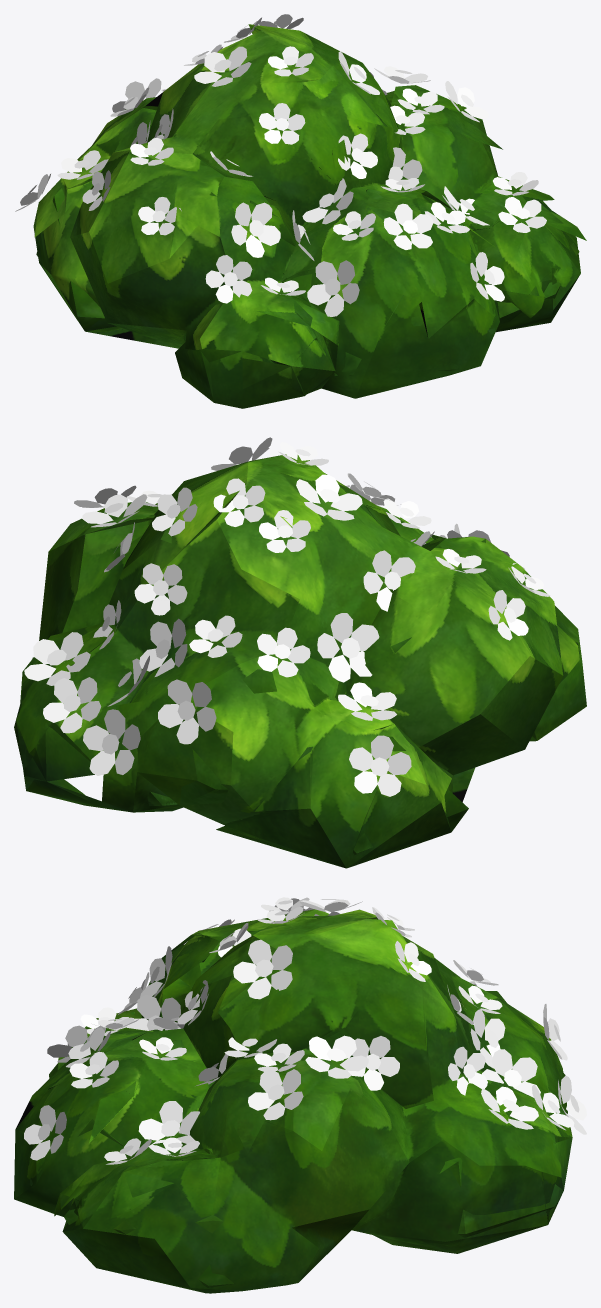
Rendered from flower_bush.glb.
3 views of the same model, one above another, from view 1: azimuth 30°, elevation 25°; view 2: azimuth 150°, elevation 25°; view 3: azimuth 270°, elevation 25° (orthographic). The views are drawn at different scales.
Parts seen in each view (by area): view 1: low, flowers; view 2: low, flowers; view 3: low, flowers.
Part boxes in pixels (x1=…): low: x1=33, y1=24, x2=586, y2=408; flowers: x1=15, y1=14, x2=546, y2=316; low: x1=14, y1=454, x2=586, y2=868; flowers: x1=24, y1=437, x2=550, y2=796; low: x1=14, y1=909, x2=572, y2=1293; flowers: x1=24, y1=897, x2=586, y2=1164.
Size of the model in its own units: 0.9789 by 0.5612 by 1.01.
Materials: 2 (1 with a texture image).
